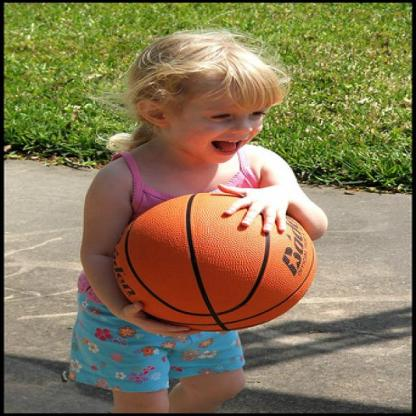basketball: (109, 191, 319, 333)
